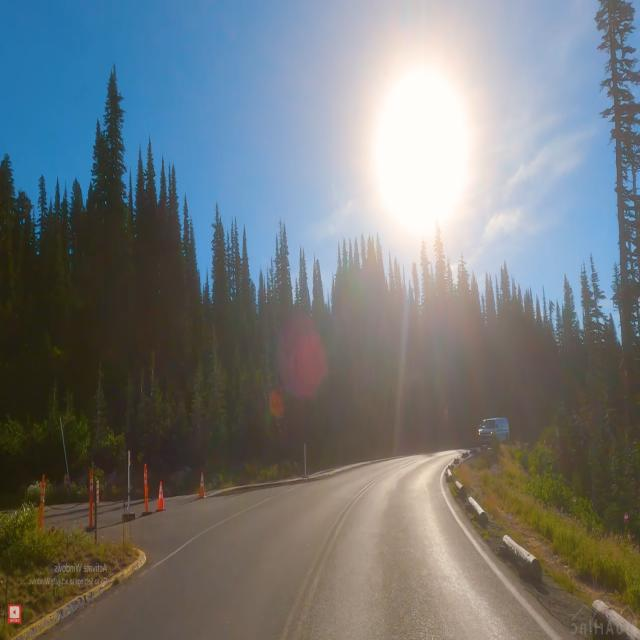sun: (345, 35, 493, 255)
